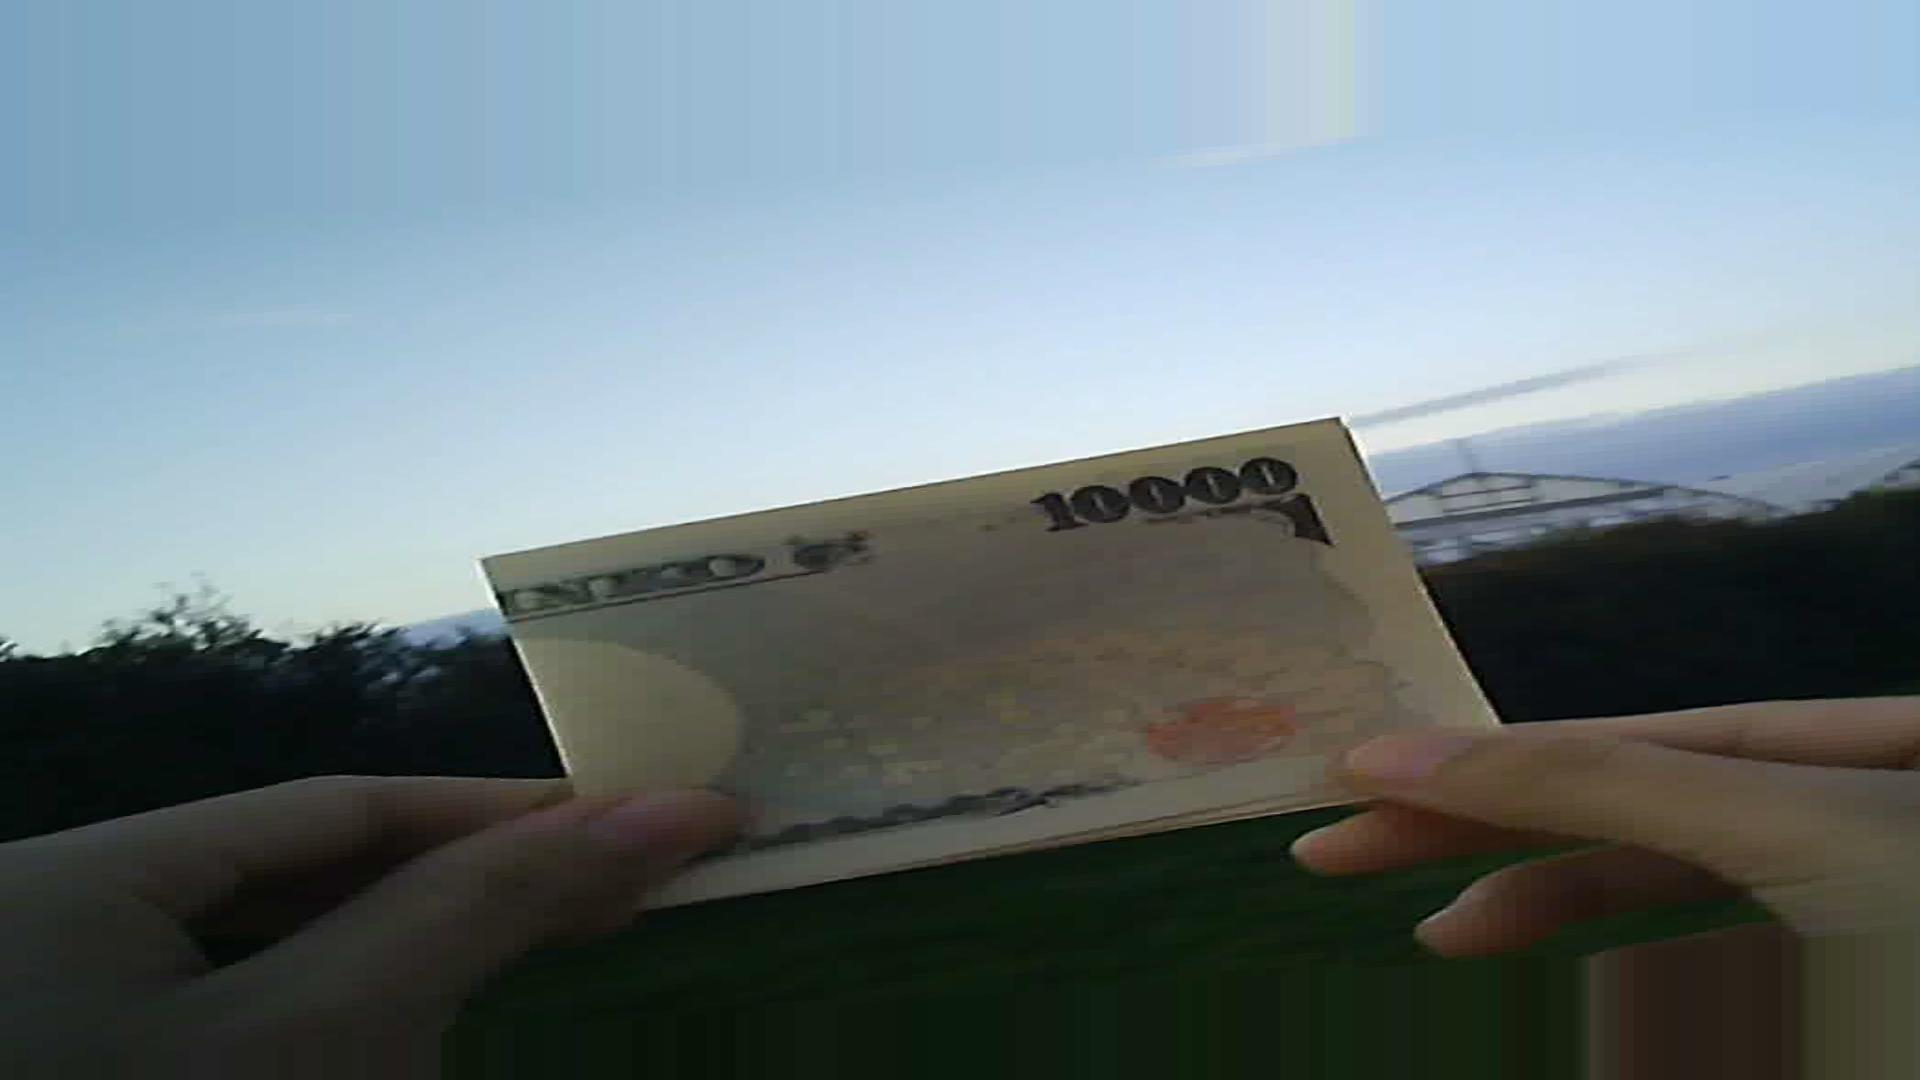10,000 Yen: (472, 434, 1538, 891)
